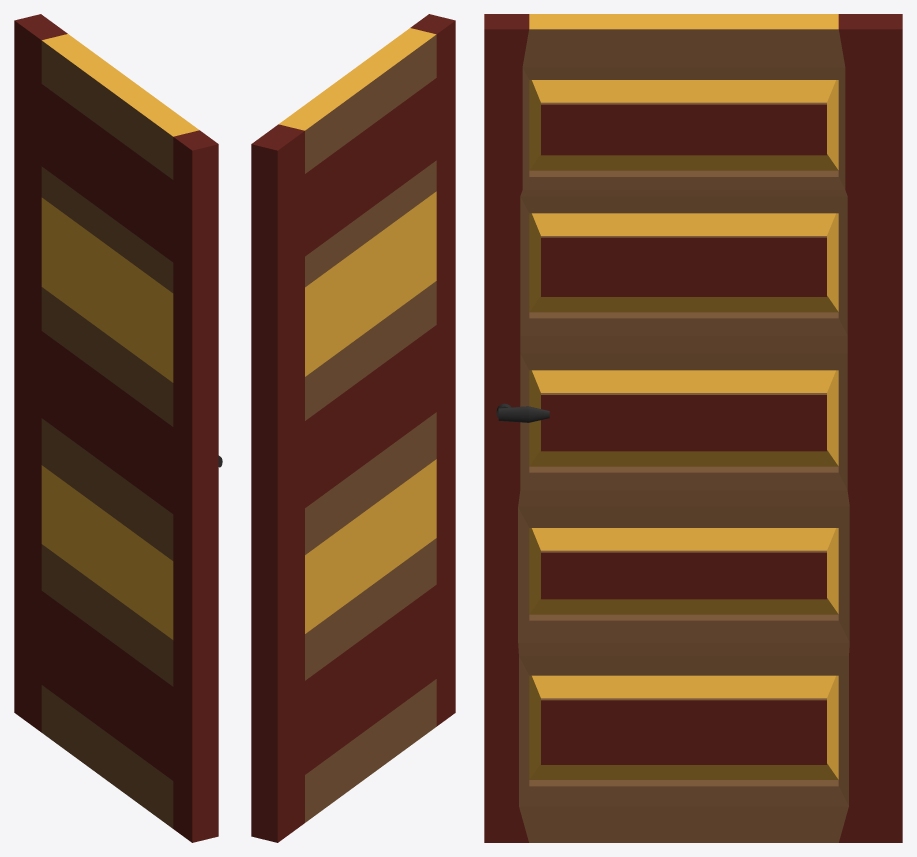
File: door.glb
3 renders of one model, left to right at view 1: azimuth 30°, elevation 25°; view 2: azimuth 150°, elevation 25°; view 3: azimuth 270°, elevation 25°, orthographic. The views are drawn at different scales.
Parts seen in each view (by area): view 1: Cube.004; view 2: Cube.004; view 3: Cube.004.
Part boxes in pixels (left/top/right/bottom): Cube.004: left=14, top=14, right=218, bottom=842; Cube.004: left=251, top=14, right=455, bottom=842; Cube.004: left=484, top=14, right=902, bottom=842.
Size of the model in its own units: 1.69 by 30.09 by 14.01.
